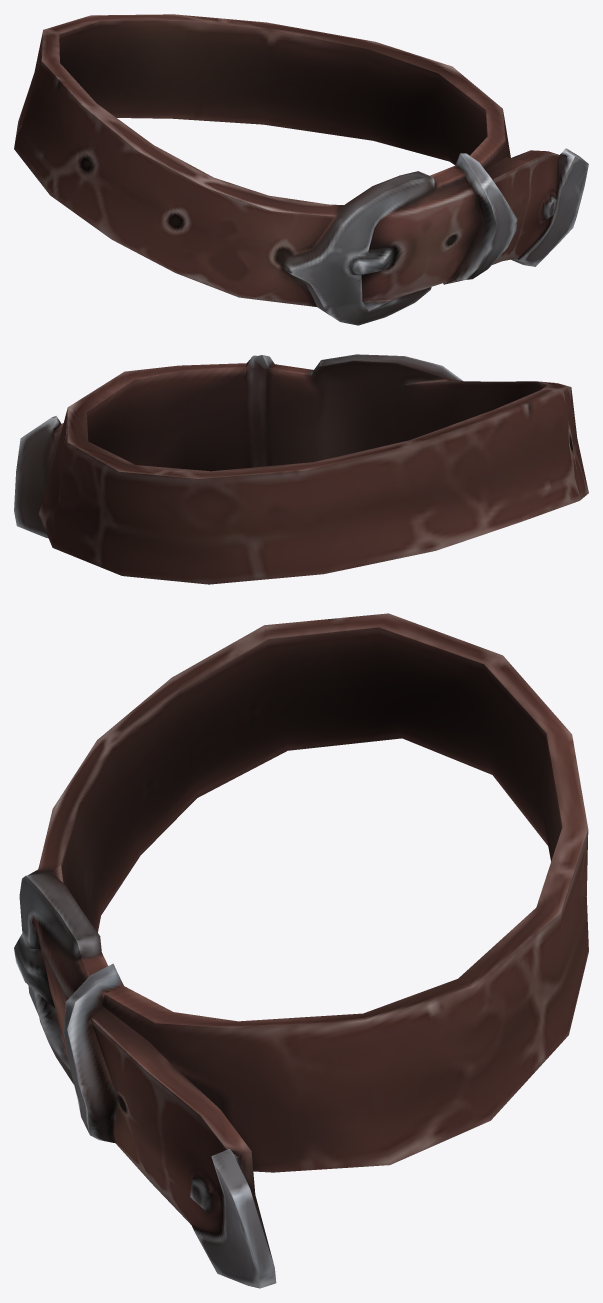
The model's file is Belt.FBX.
The picture shows the model from 3 angles, top to bottom: view 1: azimuth 30°, elevation 25°; view 2: azimuth 150°, elevation 25°; view 3: azimuth 270°, elevation 25°; orthographic projection. The views are drawn at different scales.
Visible parts, largest first — view 1: Belt; view 2: Belt; view 3: Belt.
Part boxes in pixels (x1=…): Belt: x1=14, y1=14, x2=588, y2=325; Belt: x1=14, y1=354, x2=588, y2=584; Belt: x1=14, y1=613, x2=588, y2=1288.
Size of the model in its own units: 45.26 by 31.24 by 22.11.
